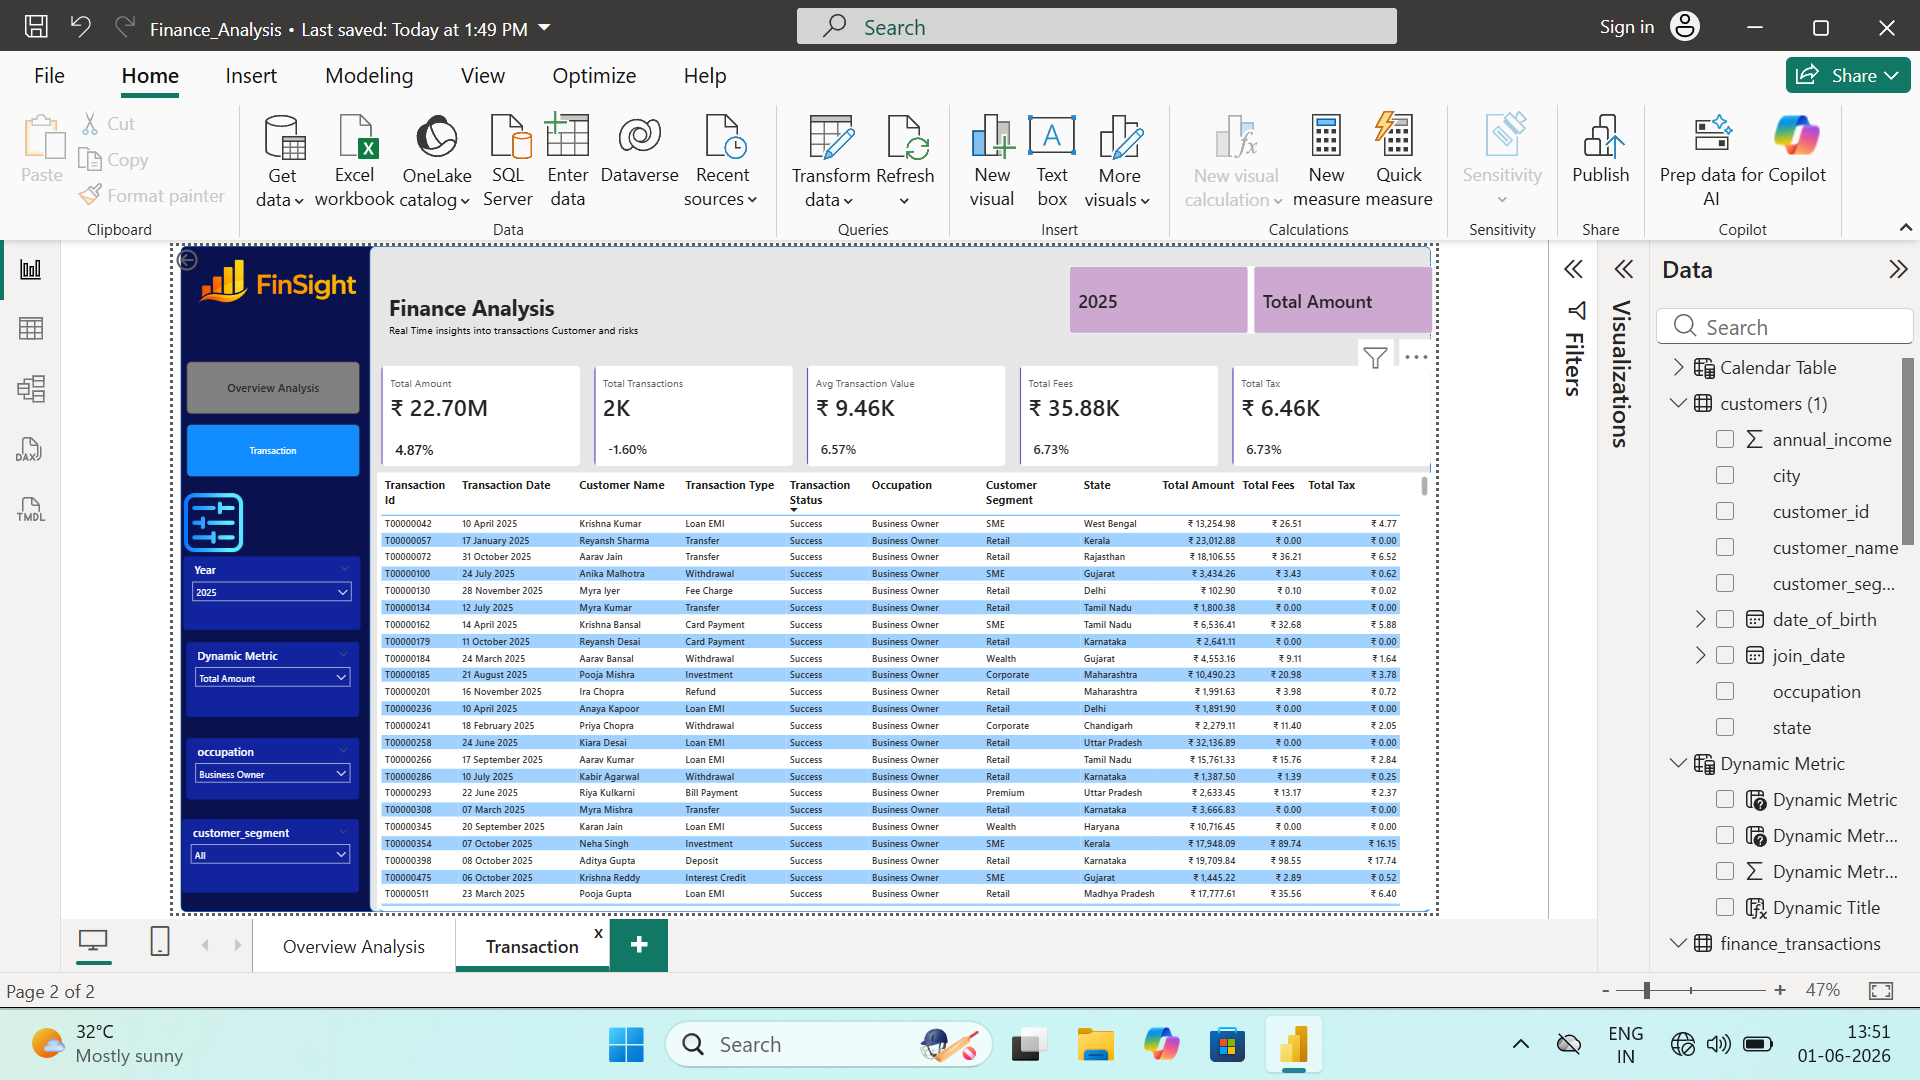

This screenshot's page, from the dashboard's own definition file:
{"tool":"powerbi","page":{"name":"Transaction","canvas":[1800,950],"ordinal":1},"visuals":[{"type":"shape","box":[10.7,0,279.9,948.6],"z":0},{"type":"shape","box":[279,0,1512,948.7],"z":1000},{"type":"cardVisual","fields":{"Data":["finance_transactions.Dashboard Title"]},"box":[289.7,0,653.7,196.7],"z":2000},{"type":"cardVisual","fields":{"Data":["finance_transactions.Total Amount","finance_transactions.Total Transactions","finance_transactions.Avg Transaction Value","finance_transactions.Total Fees","finance_transactions.Total Tax"]},"box":[290.6,164.5,1508.4,156],"z":3000},{"type":"slicer","fields":{"Values":["Calendar Table.Year"]},"box":[15,442.3,252.1,104.7],"z":4000},{"type":"slicer","fields":{"Values":["Dynamic Metric.Dynamic Metric"]},"box":[19.2,564,245.7,106.8],"z":5000},{"type":"shape","box":[289.7,326.9,1501.5,621.9],"z":6000},{"type":"cardVisual","fields":{"Data":["finance_transactions.Selected Year","Calendar Table.Selected Dynamic Measure"]},"box":[1270.3,23.9,528.8,106.3],"z":7000},{"type":"tableEx","fields":{"Values":["finance_transactions.transaction_id","finance_transactions.transaction_date","customers (1).customer_name","finance_transactions.transaction_type","finance_transactions.transaction_status","customers (1).occupation","customers (1).customer_segment","customers (1).state","finance_transactions.Total Amount","finance_transactions.Total Fees","finance_transactions.Total Tax"]},"box":[289.7,321.6,1501.5,621.9],"z":8000},{"type":"actionButton","box":[0,0,100,40],"z":9000},{"type":"slicer","fields":{"Values":["customers (1).occupation"]},"box":[19.2,700.8,245.7,87.6],"z":9001},{"type":"slicer","fields":{"Values":["customers (1).customer_segment"]},"box":[12.8,816.1,252.1,104.7],"z":9002},{"type":"pageNavigator","box":[19.2,164.5,247.8,164.5],"z":9003},{"type":"image","box":[27.8,2.1,247.8,96.1],"z":9004},{"type":"image","box":[0,346.1,115.4,96.1],"z":9005}]}

Visuals, with their boxes on the page's 1800x950 design canvas (x1, y1, x2, y2). These are canvas units, not pixel positions in the 1920x1080 screenshot, which may show the page scaled, cropped or inside an application window:
shape: left=11, top=0, right=291, bottom=949
shape: left=279, top=0, right=1791, bottom=949
cardVisual - finance_transactions.Dashboard Title: left=290, top=0, right=943, bottom=197
cardVisual - finance_transactions.Total Amount x finance_transactions.Total Transactions: left=291, top=164, right=1799, bottom=320
slicer - Calendar Table.Year: left=15, top=442, right=267, bottom=547
slicer - Dynamic Metric.Dynamic Metric: left=19, top=564, right=265, bottom=671
shape: left=290, top=327, right=1791, bottom=949
cardVisual - finance_transactions.Selected Year x Calendar Table.Selected Dynamic Measure: left=1270, top=24, right=1799, bottom=130
tableEx - finance_transactions.transaction_id x finance_transactions.transaction_date: left=290, top=322, right=1791, bottom=944
actionButton: left=0, top=0, right=100, bottom=40
slicer - customers (1).occupation: left=19, top=701, right=265, bottom=788
slicer - customers (1).customer_segment: left=13, top=816, right=265, bottom=921
pageNavigator: left=19, top=164, right=267, bottom=329
image: left=28, top=2, right=276, bottom=98
image: left=0, top=346, right=115, bottom=442
